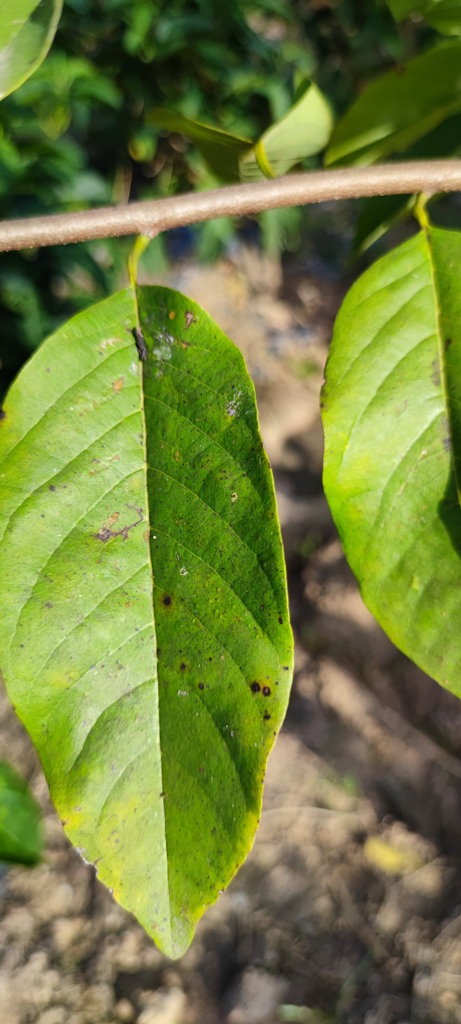frog-eye leafspot: (166, 650, 215, 704), (237, 665, 276, 723), (147, 582, 181, 615)
